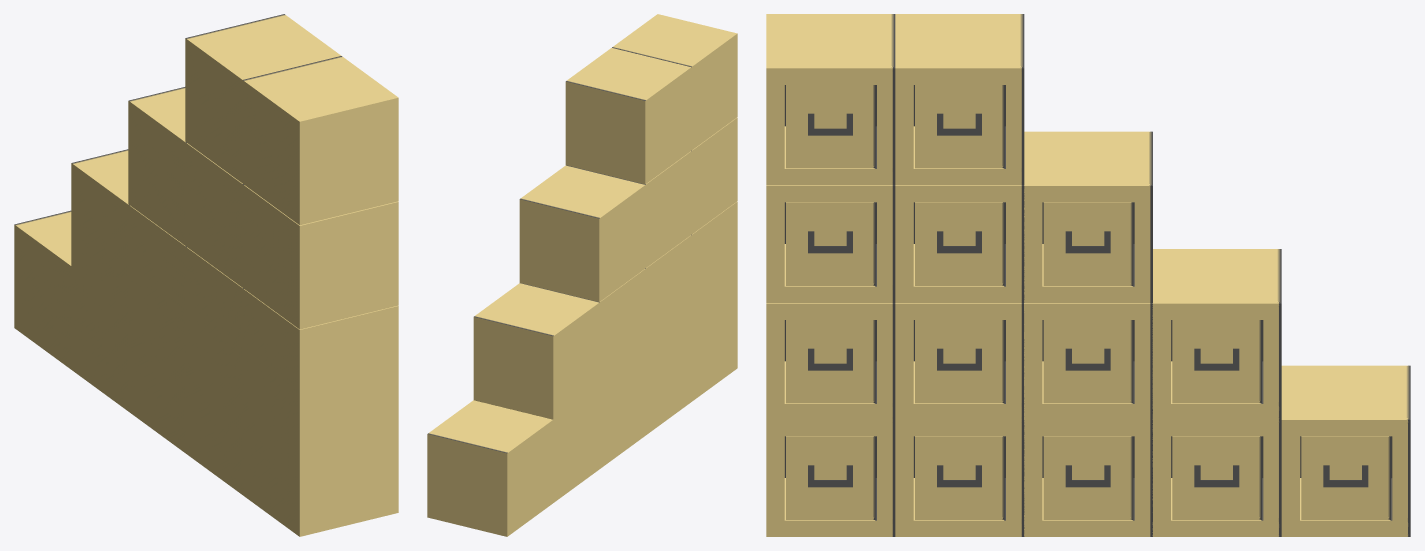
Rendered from tansu.fbx.
3 views of the same model, side by side, from view 1: azimuth 30°, elevation 25°; view 2: azimuth 150°, elevation 25°; view 3: azimuth 270°, elevation 25° (orthographic). The views are drawn at different scales.
Visible parts, largest first — view 1: 立方体.015; view 2: 立方体.015; view 3: 立方体.015.
Part boxes in pixels (box(x1,y1,x2,y2)): 立方体.015: box(14, 14, 398, 536); 立方体.015: box(427, 14, 737, 536); 立方体.015: box(766, 14, 1410, 536).
Bounding box in the file's own units: 546 × 2140 × 2668.
